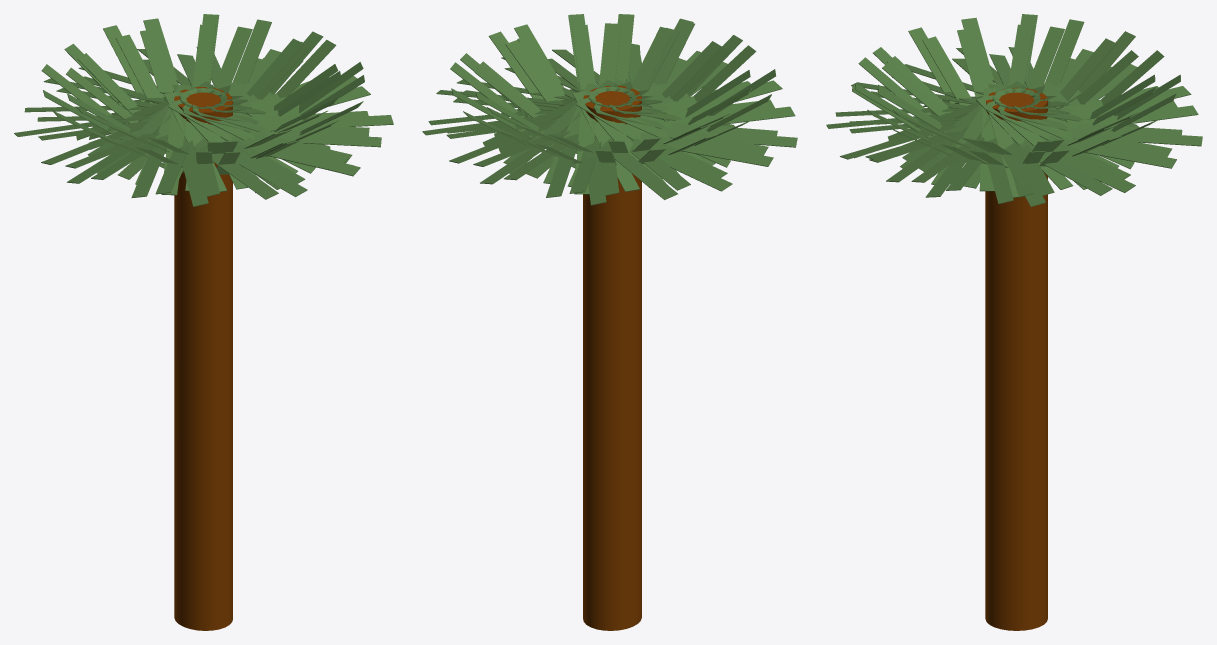
The model's file is palm-tree.obj.
3 renders of one model, left to right at view 1: azimuth 30°, elevation 25°; view 2: azimuth 150°, elevation 25°; view 3: azimuth 270°, elevation 25°, orthographic.
Parts seen in each view (by area): view 1: Merged_Meshes, Cylinder; view 2: Merged_Meshes, Cylinder; view 3: Merged_Meshes, Cylinder.
Boxes of the visible parts, x1=… form: Merged_Meshes: x1=14, y1=14, x2=393, y2=206; Cylinder: x1=174, y1=87, x2=232, y2=630; Merged_Meshes: x1=422, y1=14, x2=797, y2=205; Cylinder: x1=583, y1=85, x2=641, y2=630; Merged_Meshes: x1=826, y1=14, x2=1202, y2=206; Cylinder: x1=985, y1=87, x2=1047, y2=630.
Size of the model in its own units: 2.57 by 4.04 by 2.58.
